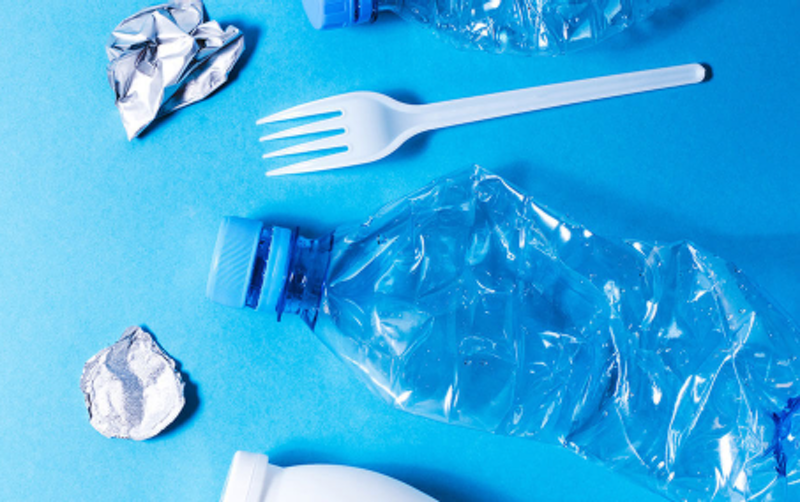plastic_bottle: (180, 181, 800, 492), (272, 1, 800, 108)
